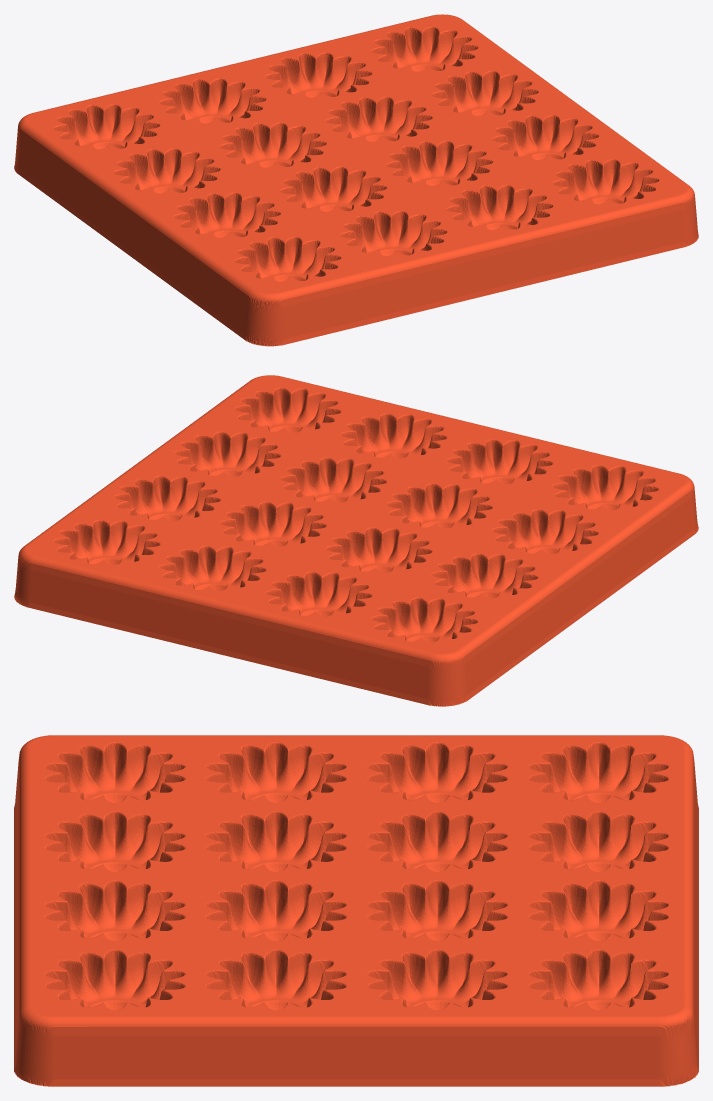
File: mold.glb
The picture shows the model from 3 angles, top to bottom: view 1: azimuth 30°, elevation 25°; view 2: azimuth 150°, elevation 25°; view 3: azimuth 270°, elevation 25°; orthographic projection. The views are drawn at different scales.
Parts seen in each view (by area): view 1: geometry_0; view 2: geometry_0; view 3: geometry_0.
Part boxes in pixels (box(x1,y1,x2,y2)): geometry_0: box(14, 14, 698, 346); geometry_0: box(14, 375, 698, 706); geometry_0: box(14, 735, 698, 1086).
Bounding box in the file's own units: 0.1569 × 0.0159 × 0.1548.
